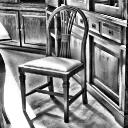chair_success: (13, 4, 96, 124)
